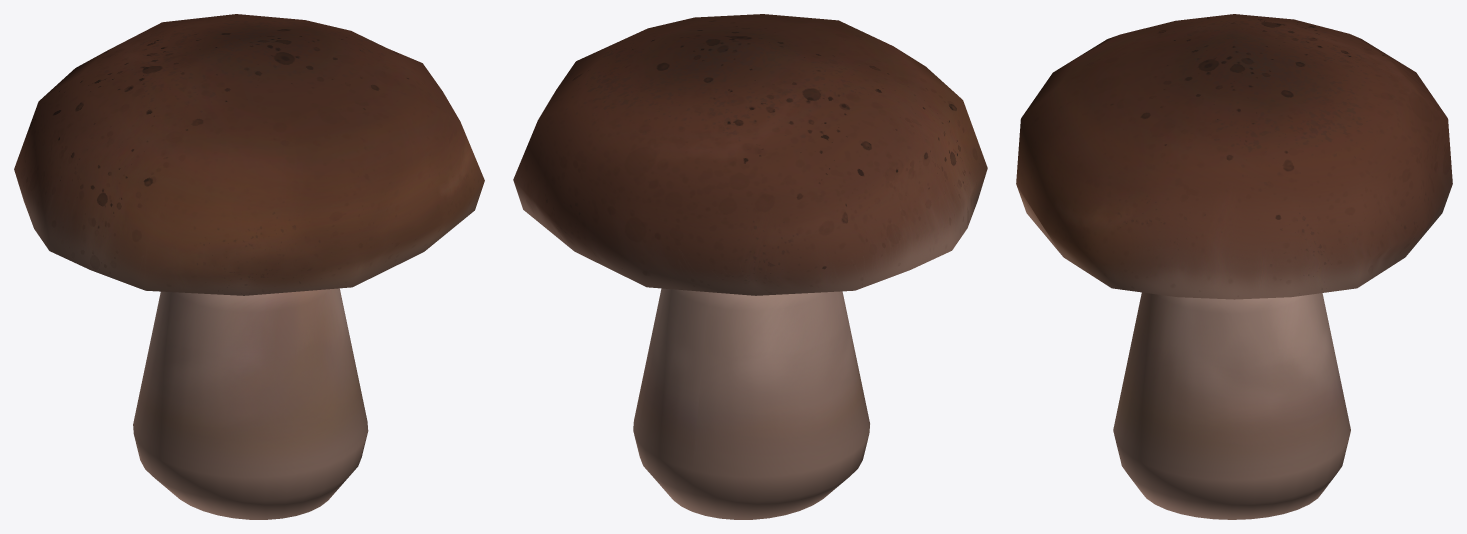
Rendered from Brown_Mushroom.fbx.
3 renders of one model, left to right at view 1: azimuth 30°, elevation 25°; view 2: azimuth 150°, elevation 25°; view 3: azimuth 270°, elevation 25°, orthographic.
Visible parts, largest first — view 1: Cap, Stem; view 2: Cap, Stem; view 3: Cap, Stem.
Part boxes in pixels (bbox=[...]): Cap: bbox=[14, 14, 484, 295]; Stem: bbox=[133, 288, 368, 519]; Cap: bbox=[513, 14, 987, 295]; Stem: bbox=[633, 288, 869, 519]; Cap: bbox=[1016, 14, 1452, 299]; Stem: bbox=[1113, 292, 1350, 519].
Size of the model in its own units: 79.4 by 82.53 by 74.34.
